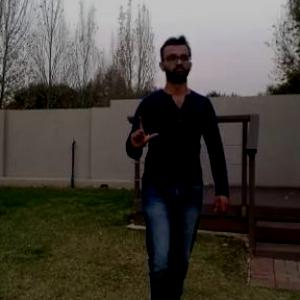land_hand: (127, 109, 162, 153)
